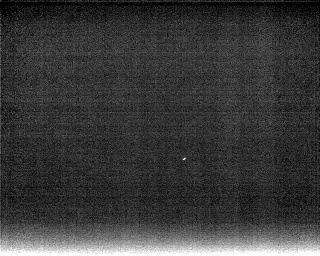BIRD: (181, 154, 188, 163)
